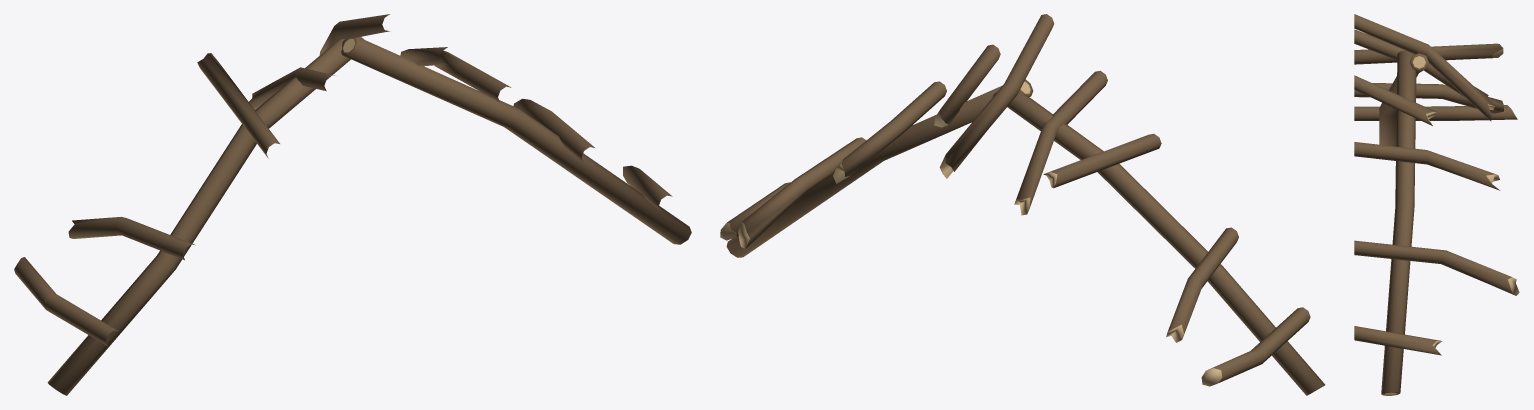
Rendered from rpgpp_av_roof_support_01_9x4x3_b.gltf.
3 views of the same model, side by side, from view 1: azimuth 30°, elevation 25°; view 2: azimuth 150°, elevation 25°; view 3: azimuth 270°, elevation 25° (orthographic). The views are drawn at different scales.
Visible parts, largest first — view 1: rpgpp_av_roof_support_01_9x4x3_b; view 2: rpgpp_av_roof_support_01_9x4x3_b; view 3: rpgpp_av_roof_support_01_9x4x3_b.
Part boxes in pixels (bbox=[...]): rpgpp_av_roof_support_01_9x4x3_b: bbox=[14, 14, 691, 395]; rpgpp_av_roof_support_01_9x4x3_b: bbox=[720, 14, 1325, 395]; rpgpp_av_roof_support_01_9x4x3_b: bbox=[1354, 14, 1519, 395].
Bounding box in the file's own units: 0.0998 × 0.0477 × 0.0274.
1 material, 1 textured.
